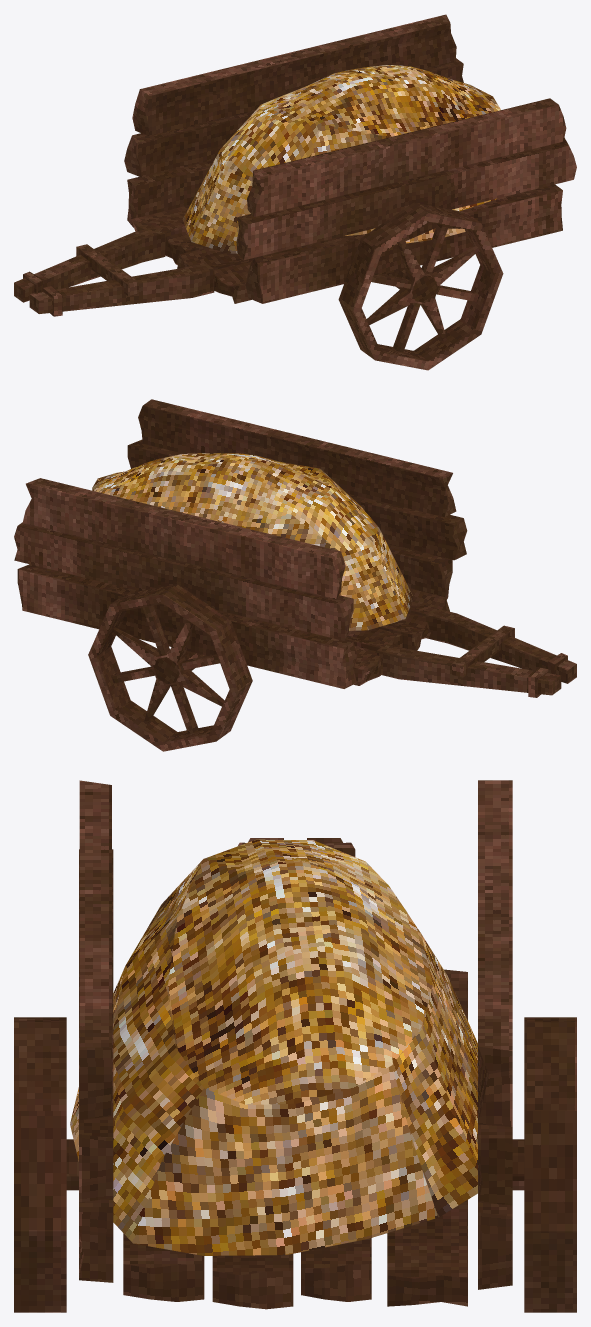
The model's file is Cart.gltf.
3 views of the same model, one above another, from view 1: azimuth 30°, elevation 25°; view 2: azimuth 150°, elevation 25°; view 3: azimuth 270°, elevation 25° (orthographic). The views are drawn at different scales.
Parts seen in each view (by area): view 1: Cart, Wooden_Cart_Variant2.001; view 2: Cart, Wooden_Cart_Variant2.001; view 3: Cart, Wooden_Cart_Variant2.001.
Boxes of the visible parts, <box> form: Cart: <box>14,14,576,316</box>; Wooden_Cart_Variant2.001: <box>338,202,503,370</box>; Cart: <box>14,399,576,697</box>; Wooden_Cart_Variant2.001: <box>88,584,252,751</box>; Cart: <box>70,780,512,1309</box>; Wooden_Cart_Variant2.001: <box>14,1017,576,1312</box>.
Bounding box in the file's own units: 6.98 × 3.16 × 3.76.
Materials: 1 (1 with a texture image).
